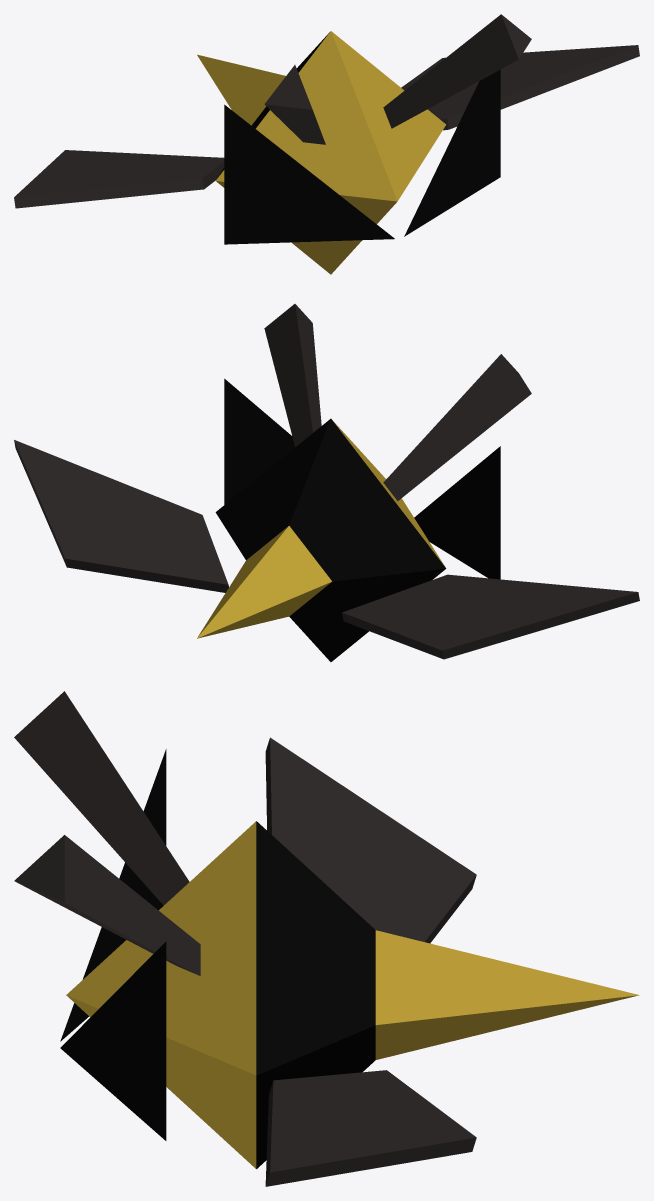
The model's file is Tinybee.fbx.
The picture shows the model from 3 angles, top to bottom: view 1: azimuth 30°, elevation 25°; view 2: azimuth 150°, elevation 25°; view 3: azimuth 270°, elevation 25°; orthographic projection. The views are drawn at different scales.
Parts seen in each view (by area): view 1: Tinybee; view 2: Tinybee; view 3: Tinybee.
Boxes of the visible parts, bbox=[...] form: Tinybee: bbox=[14, 14, 639, 274]; Tinybee: bbox=[14, 304, 639, 661]; Tinybee: bbox=[14, 691, 639, 1186].
Bounding box in the file's own units: 268 × 117 × 163.
